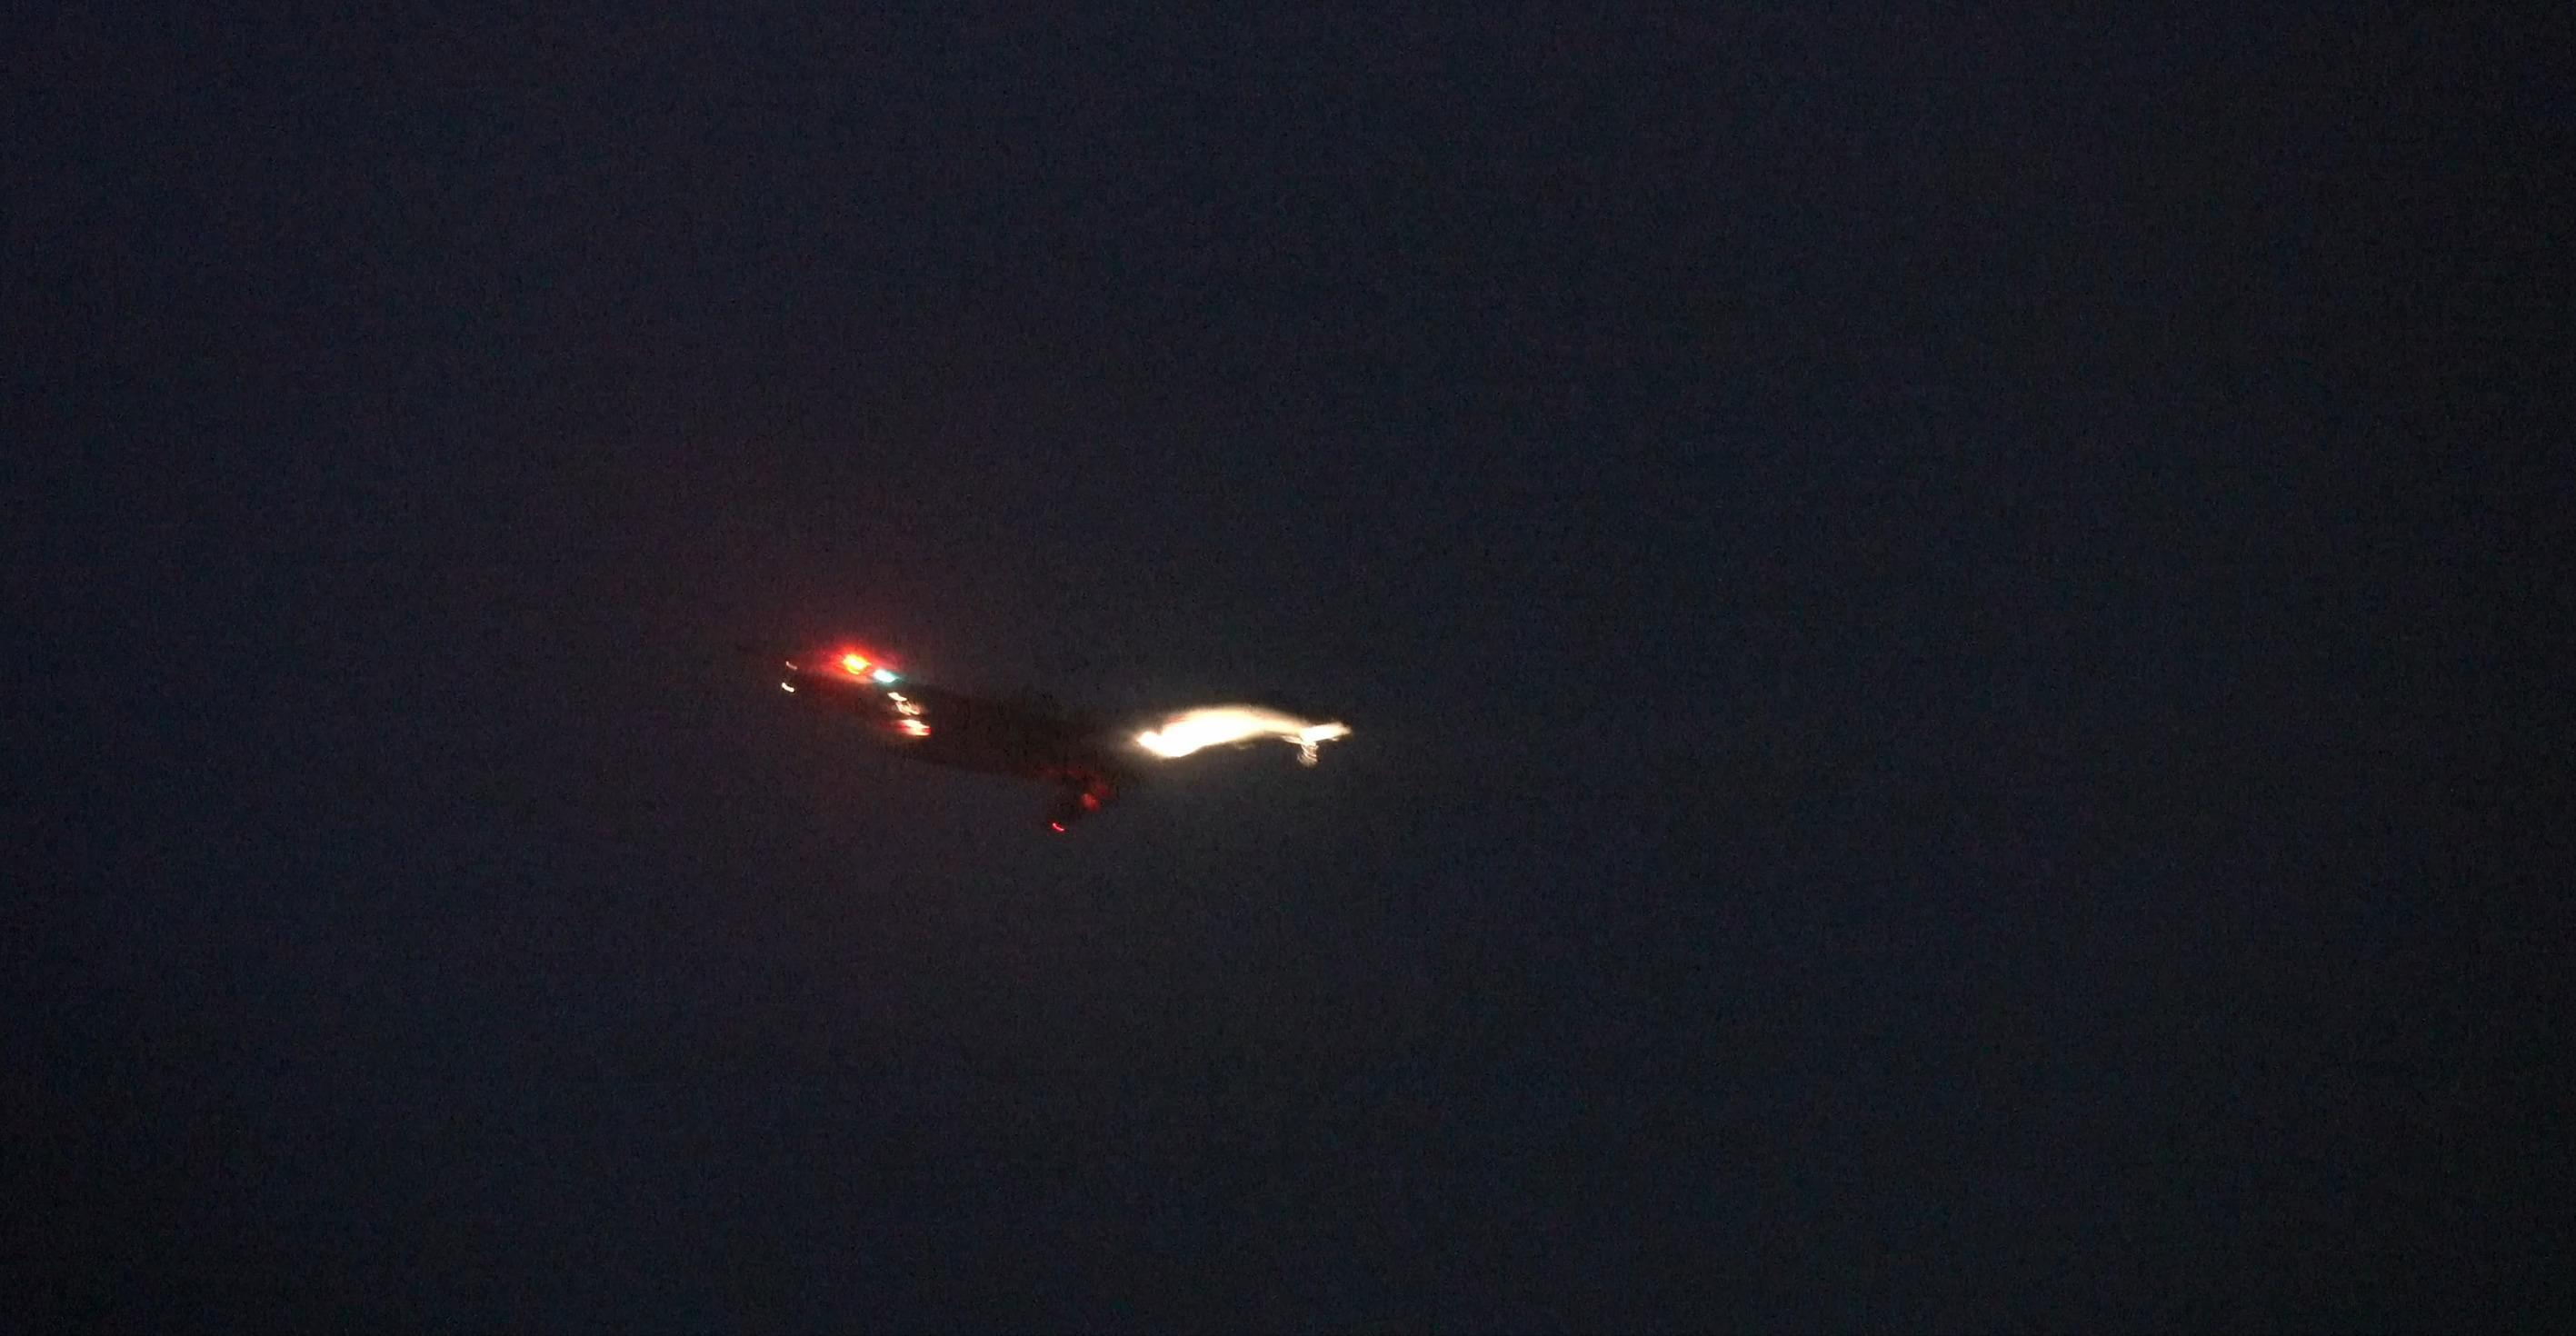Plane: (762, 617, 1327, 840)
